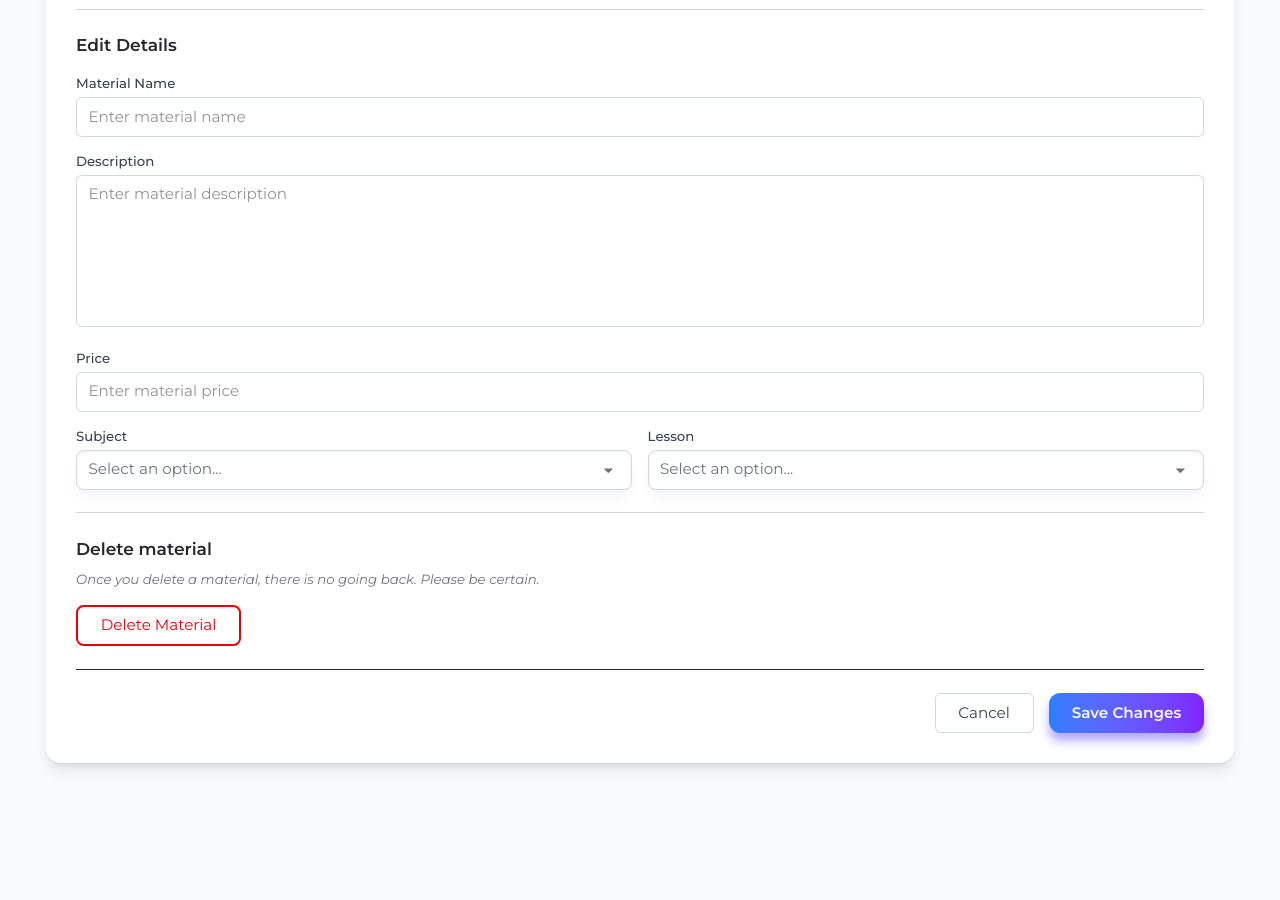
Test: MaterialEditPage Component › Delete Functionality › should open delete confirmation dialog
(page scrolled)
What coordinates should you click on to do the following:
click the button "Delete Material"
I would click on:
 (159, 626)
Its box is [76, 604, 241, 646].
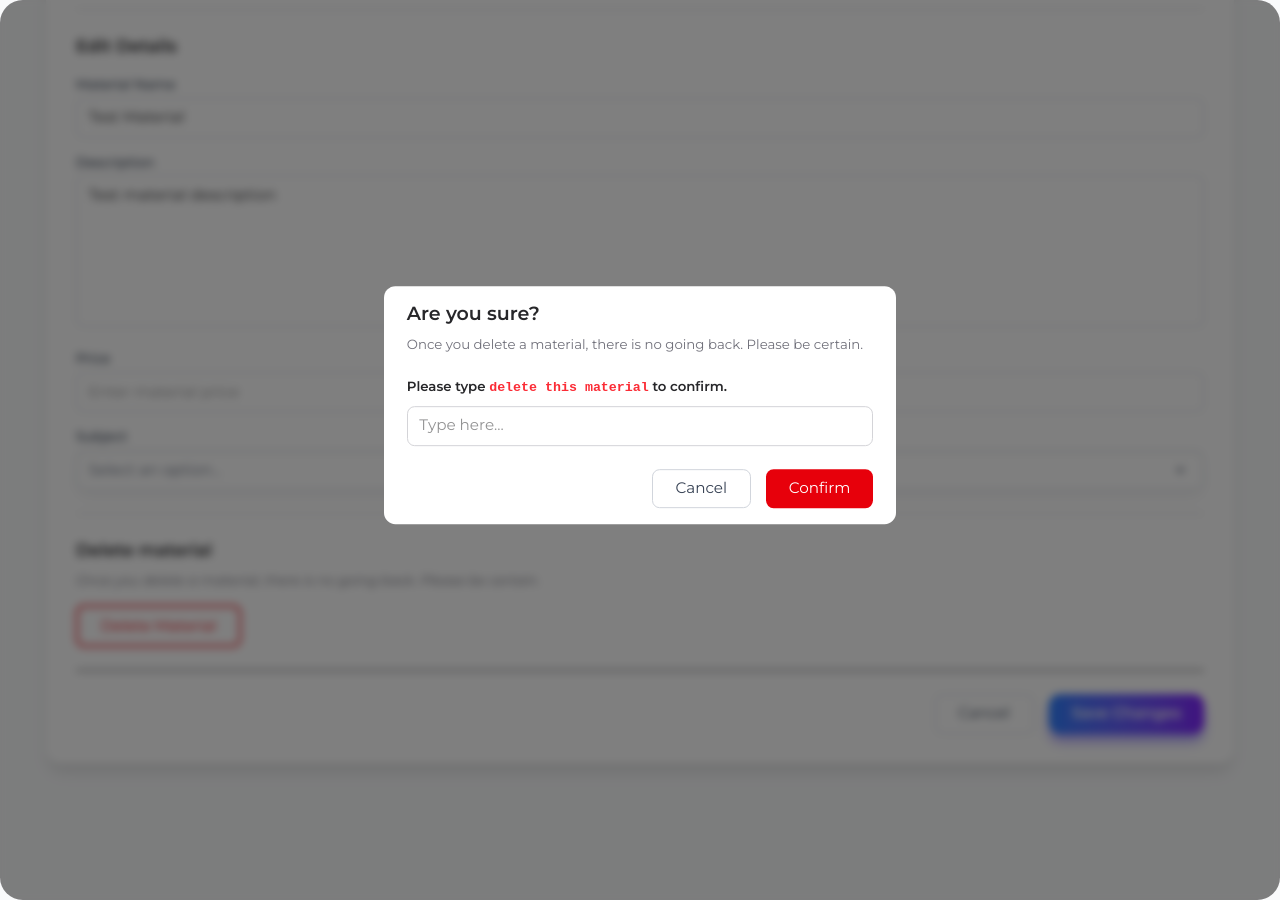
Expected: the heading "Are you sure?" is shown, [407, 302, 540, 325]
Expected: the text "delete this material" is shown, [489, 380, 649, 395]
